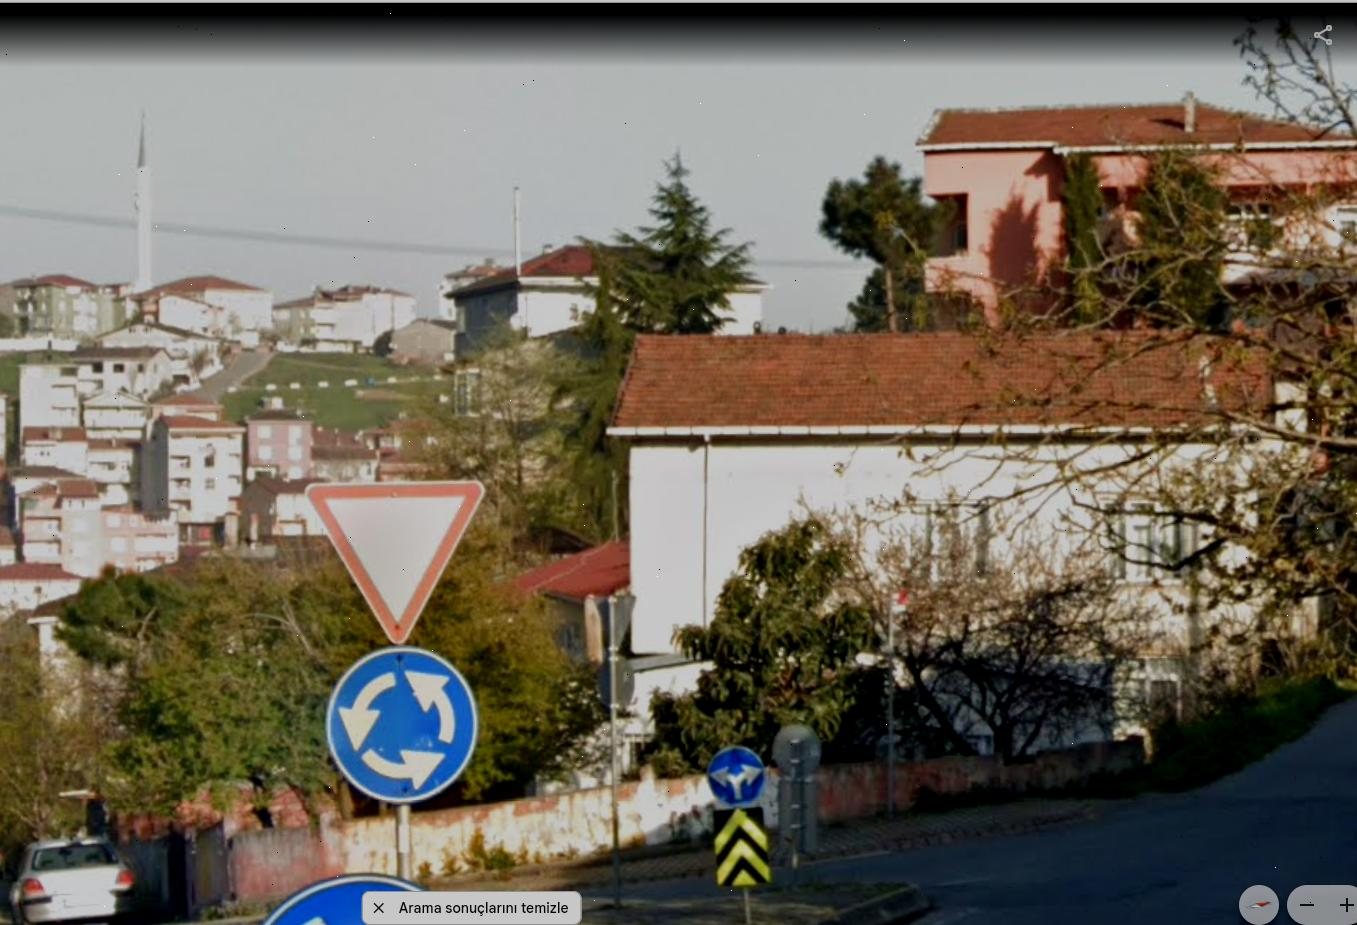crossroads: (329, 650, 475, 789)
